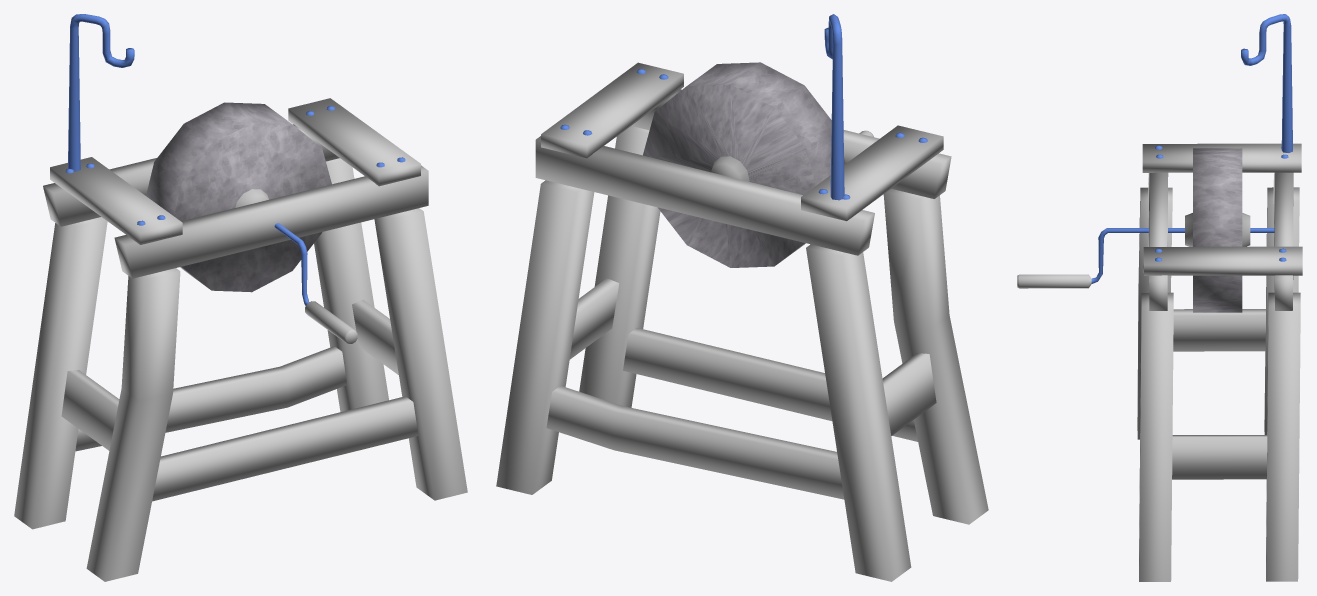
Rendered from Grinder.fbx.
3 views of the same model, side by side, from view 1: azimuth 30°, elevation 25°; view 2: azimuth 150°, elevation 25°; view 3: azimuth 270°, elevation 25° (orthographic). The views are drawn at different scales.
Visible parts, largest first — view 1: Grinder; view 2: Grinder; view 3: Grinder.
Part boxes in pixels (x1=…): Grinder: x1=14, y1=14, x2=467, y2=581; Grinder: x1=496, y1=14, x2=988, y2=581; Grinder: x1=1017, y1=14, x2=1302, y2=581.
Bounding box in the file's own units: 1.27 × 1.65 × 0.9756.
